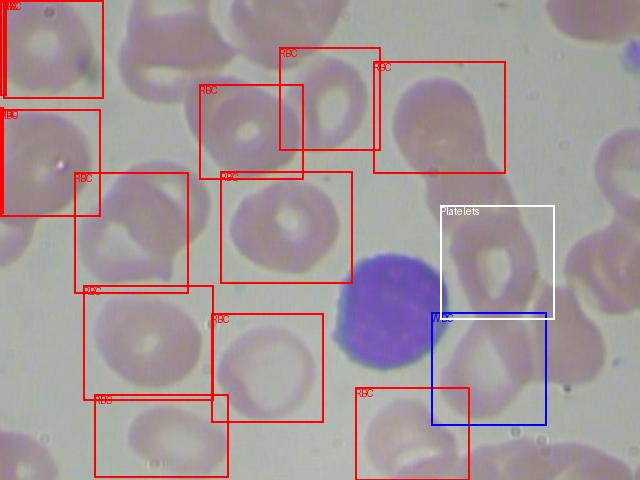Platelets: (440, 205, 554, 319)
RBC: (83, 285, 213, 400), (220, 171, 352, 283), (373, 61, 505, 173), (74, 172, 188, 293), (211, 313, 323, 422), (94, 394, 228, 477), (0, 109, 100, 216), (355, 387, 469, 480), (279, 47, 380, 150), (199, 84, 303, 179), (3, 0, 103, 98), (0, 0, 6, 95), (0, 107, 3, 213)
WBC: (431, 312, 546, 425)
